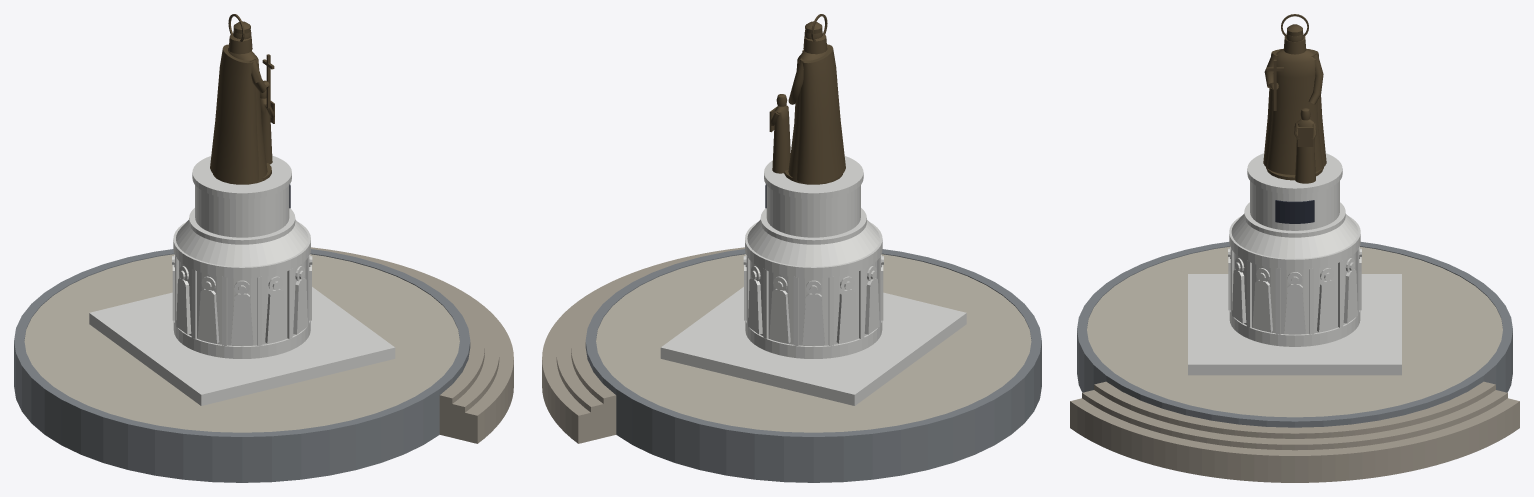
Rendered from SM_Mark_Olga.glb.
The picture shows the model from 3 angles, left to right: view 1: azimuth 30°, elevation 25°; view 2: azimuth 150°, elevation 25°; view 3: azimuth 270°, elevation 25°; orthographic projection. The views are drawn at different scales.
Visible parts, largest first — view 1: SM_Mark_Olga; view 2: SM_Mark_Olga; view 3: SM_Mark_Olga.
Part boxes in pixels (x1,y1,x2,y2): SM_Mark_Olga: (14, 14, 513, 482); SM_Mark_Olga: (542, 14, 1041, 482); SM_Mark_Olga: (1070, 14, 1519, 482).
Size of the model in its own units: 12.05 by 9.92 by 11.35.
